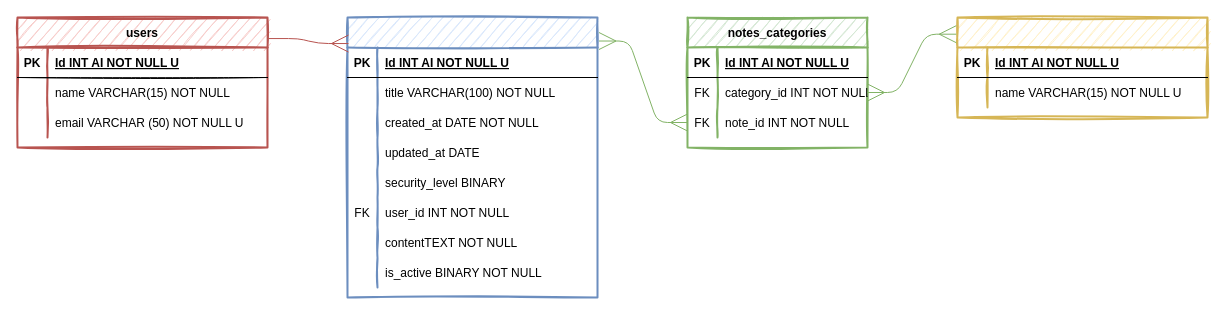
Some shapes in this 1225 by 314 pixel diagram are drawn without their labels. Here are the shapes that lost their labels. From the top down, the box of each, then its label:
(956, 16, 1208, 118): categories
(346, 16, 598, 298): notas
